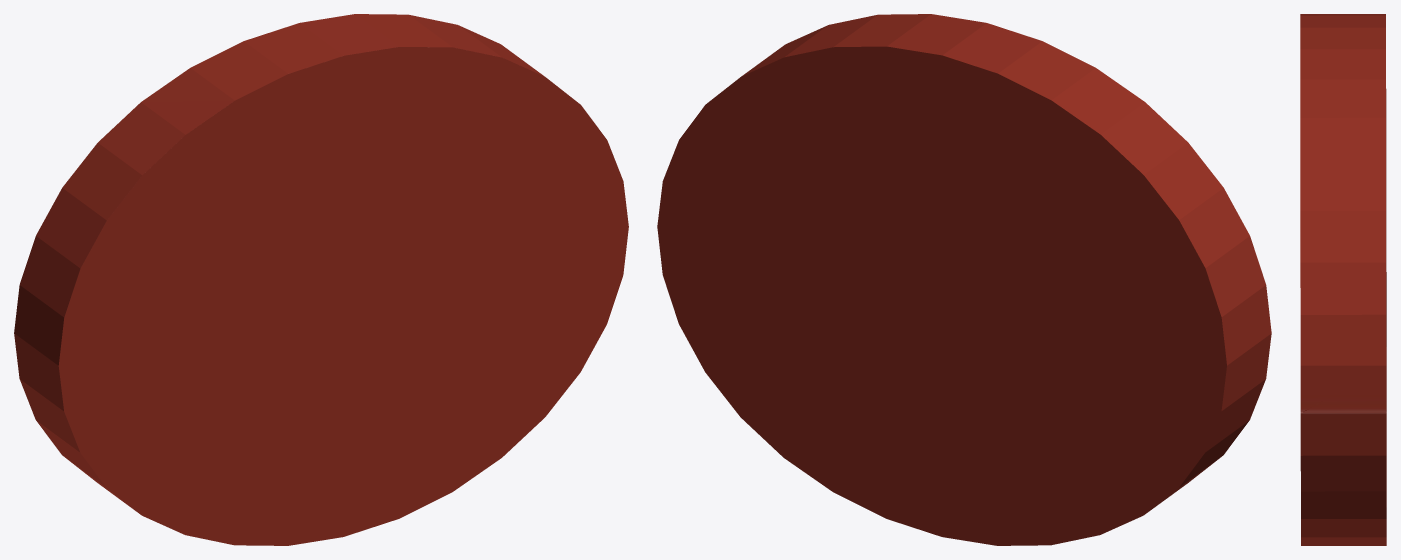
Rendered from RuedaMouse.obj.
3 views of the same model, side by side, from view 1: azimuth 30°, elevation 25°; view 2: azimuth 150°, elevation 25°; view 3: azimuth 270°, elevation 25° (orthographic). The views are drawn at different scales.
Visible parts, largest first — view 1: Rueda_Mouse; view 2: Rueda_Mouse; view 3: Rueda_Mouse.
Boxes of the visible parts, x1=… form: Rueda_Mouse: x1=14, y1=14, x2=628, y2=545; Rueda_Mouse: x1=657, y1=14, x2=1271, y2=545; Rueda_Mouse: x1=1300, y1=14, x2=1386, y2=545.
Size of the model in its own units: 0.1753 by 0.1415 by 0.024.
